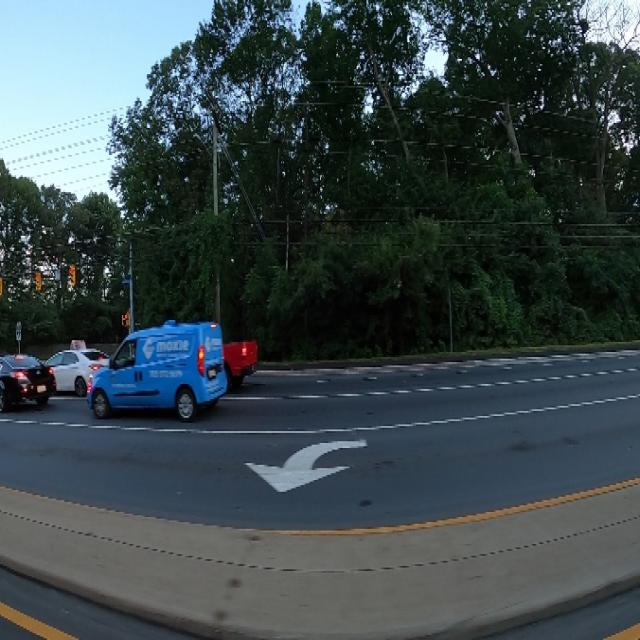car: (90, 298, 227, 436), (51, 325, 110, 404), (0, 349, 57, 426)
